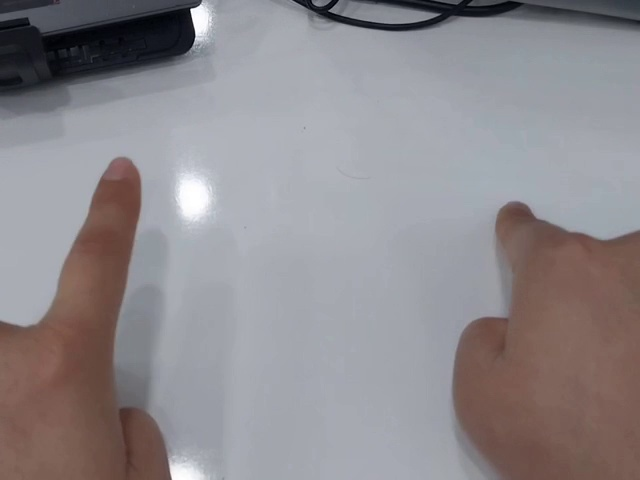fingers: (90, 156, 142, 215), (494, 200, 537, 242)
